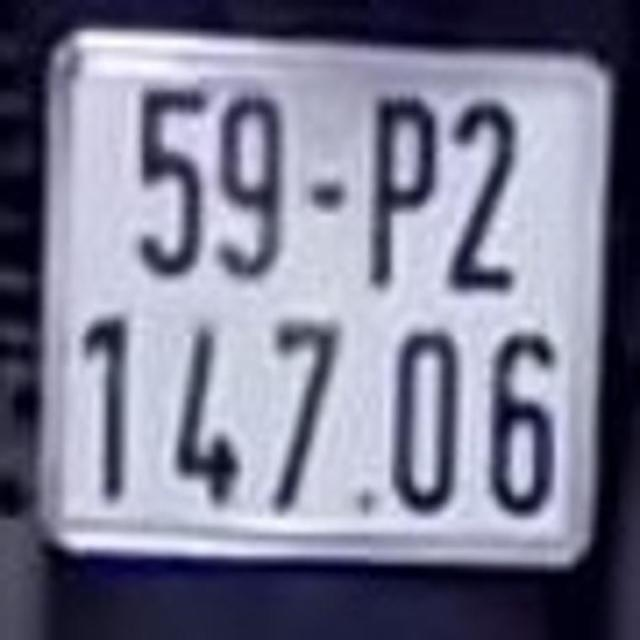0: (381, 304, 468, 515)
1: (76, 309, 140, 502)
2: (444, 82, 525, 297)
4: (167, 307, 246, 510)
5: (131, 75, 208, 279)
6: (482, 311, 566, 518)
7: (263, 296, 347, 515)
9: (212, 68, 292, 284)
P: (361, 77, 442, 293)
